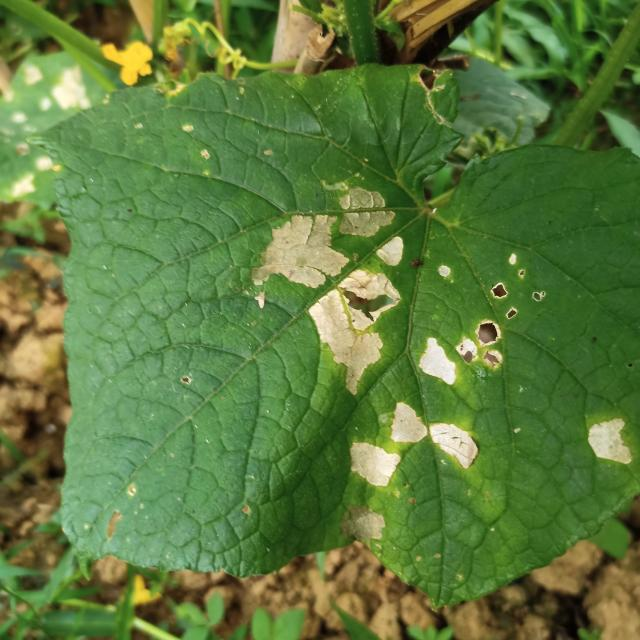disease_cucumber: (243, 174, 409, 386), (420, 246, 553, 392), (350, 398, 481, 484), (583, 406, 636, 470)
